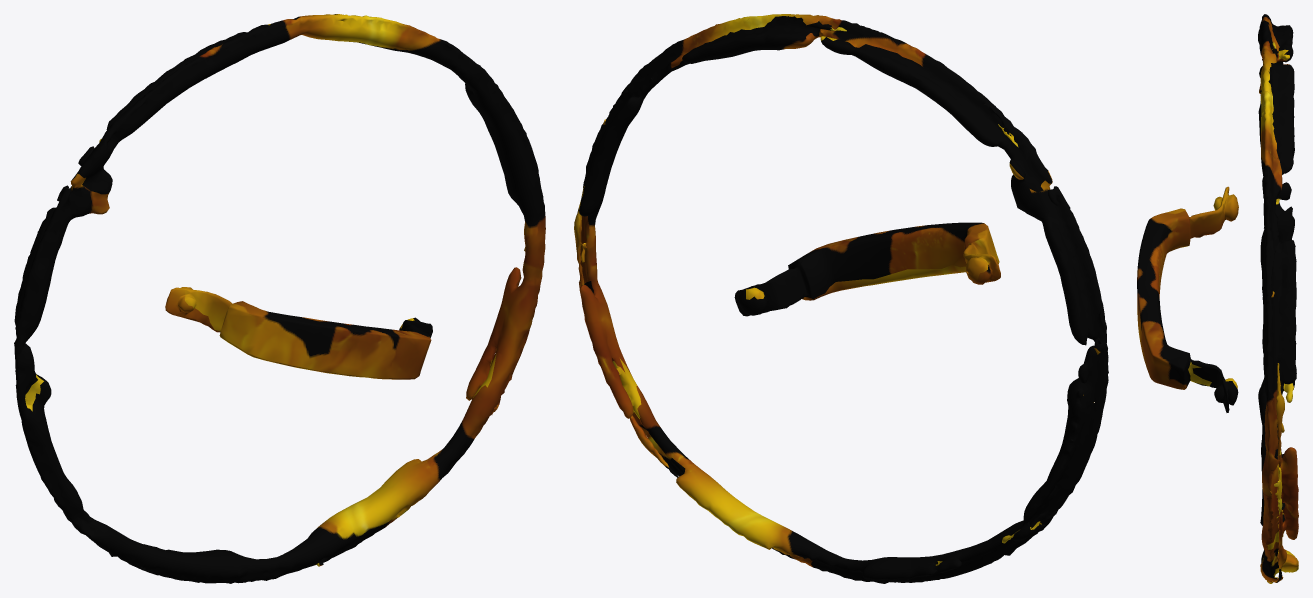
The picture shows the model from 3 angles, left to right: view 1: azimuth 30°, elevation 25°; view 2: azimuth 150°, elevation 25°; view 3: azimuth 270°, elevation 25°; orthographic projection. The views are drawn at different scales.
Bounding box in the file's own units: 0.2683 × 0.2692 × 0.0761.
